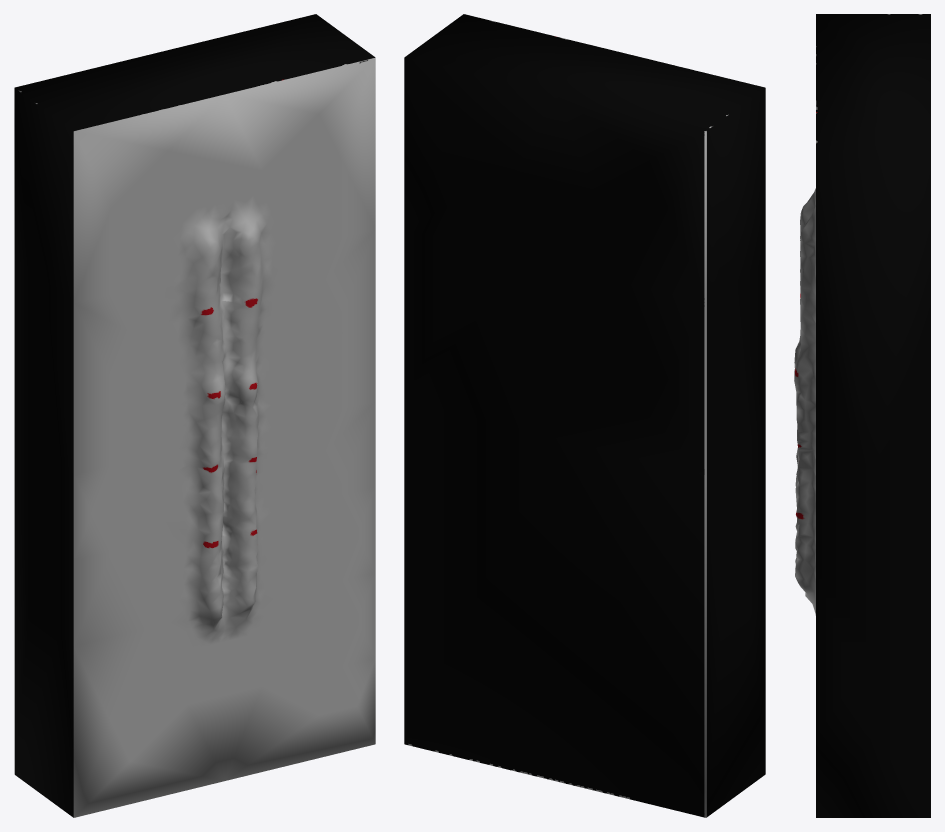
File: Phantom.OBJ
The picture shows the model from 3 angles, left to right: view 1: azimuth 30°, elevation 25°; view 2: azimuth 150°, elevation 25°; view 3: azimuth 270°, elevation 25°; orthographic projection. The views are drawn at different scales.
Parts seen in each view (by area): view 1: /ambf/env/Phantom_/ambf/env/Phantom_/ambf/env/Phantom_Phantom_Cu; view 2: /ambf/env/Phantom_/ambf/env/Phantom_/ambf/env/Phantom_Phantom_Cu; view 3: /ambf/env/Phantom_/ambf/env/Phantom_/ambf/env/Phantom_Phantom_Cu.
Part boxes in pixels (bbox=[...]): /ambf/env/Phantom_/ambf/env/Phantom_/ambf/env/Phantom_Phantom_Cu: bbox=[14, 14, 375, 817]; /ambf/env/Phantom_/ambf/env/Phantom_/ambf/env/Phantom_Phantom_Cu: bbox=[404, 14, 765, 817]; /ambf/env/Phantom_/ambf/env/Phantom_/ambf/env/Phantom_Phantom_Cu: bbox=[794, 14, 930, 817].
Bounding box in the file's own units: 0.9742 × 2.12 × 0.3962.
Materials: 1 (1 with a texture image).
